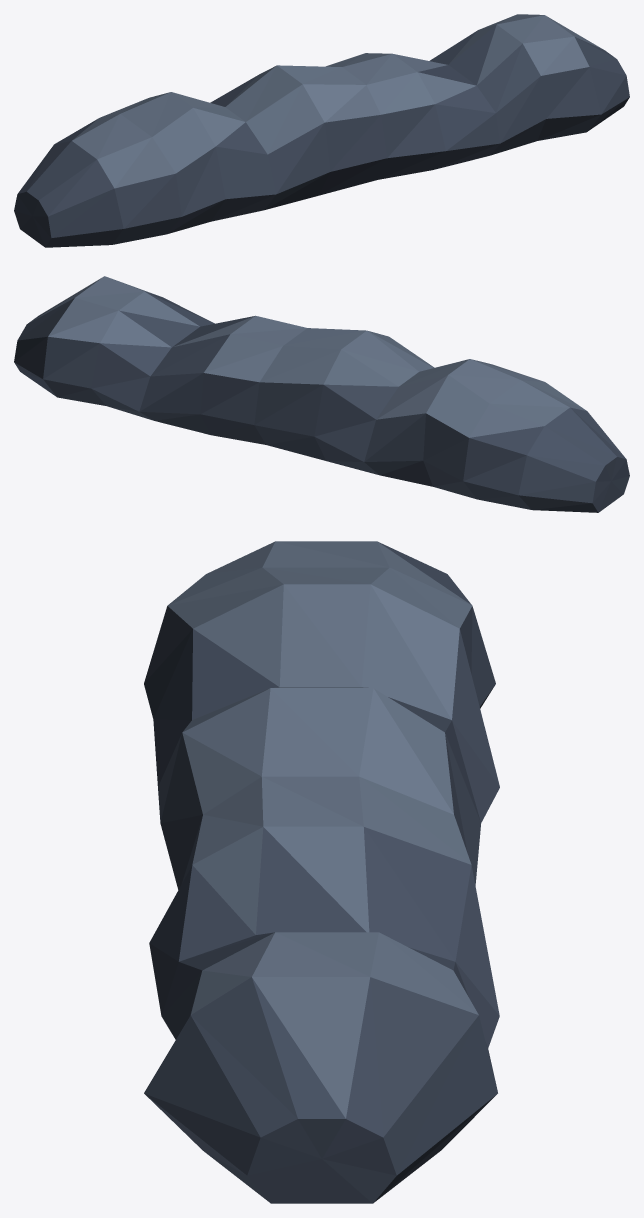
The model's file is ledge_z1_rock_medium.glb.
The picture shows the model from 3 angles, top to bottom: view 1: azimuth 30°, elevation 25°; view 2: azimuth 150°, elevation 25°; view 3: azimuth 270°, elevation 25°; orthographic projection. The views are drawn at different scales.
Parts seen in each view (by area): view 1: ledge_z1_rock_medium; view 2: ledge_z1_rock_medium; view 3: ledge_z1_rock_medium.
Boxes of the visible parts, x1=… form: ledge_z1_rock_medium: x1=14, y1=14, x2=629, y2=247; ledge_z1_rock_medium: x1=14, y1=276, x2=629, y2=512; ledge_z1_rock_medium: x1=144, y1=541, x2=499, y2=1203.
Size of the model in its own units: 6 by 1 by 1.6.
